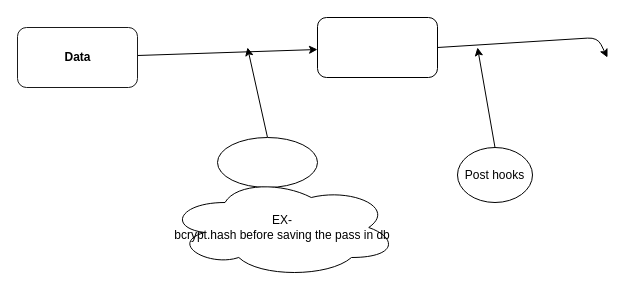
This 633x295 diagram has some shape labels left out. The centre of each missing label's shape, as x and y in pixels:
Database: the point at 377,47
Pre hooks: the point at 267,162
